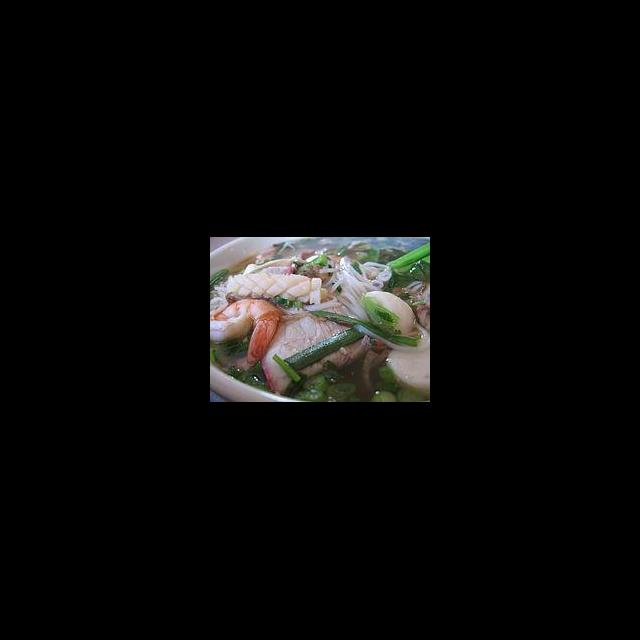banh hu tieu: (314, 252, 397, 331)
hu tieu: (211, 248, 430, 400)
muc: (223, 268, 325, 310), (361, 290, 423, 338)
thit heo: (259, 302, 375, 396)
tom: (211, 294, 283, 368)
